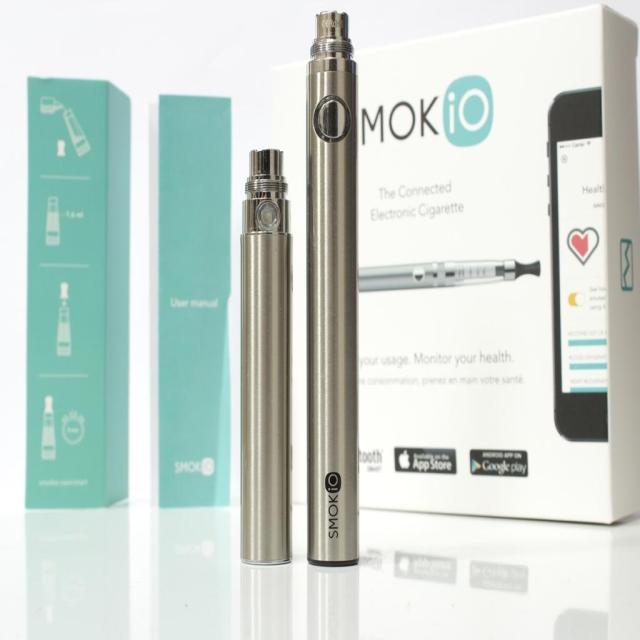mobile: (546, 86, 608, 442)
